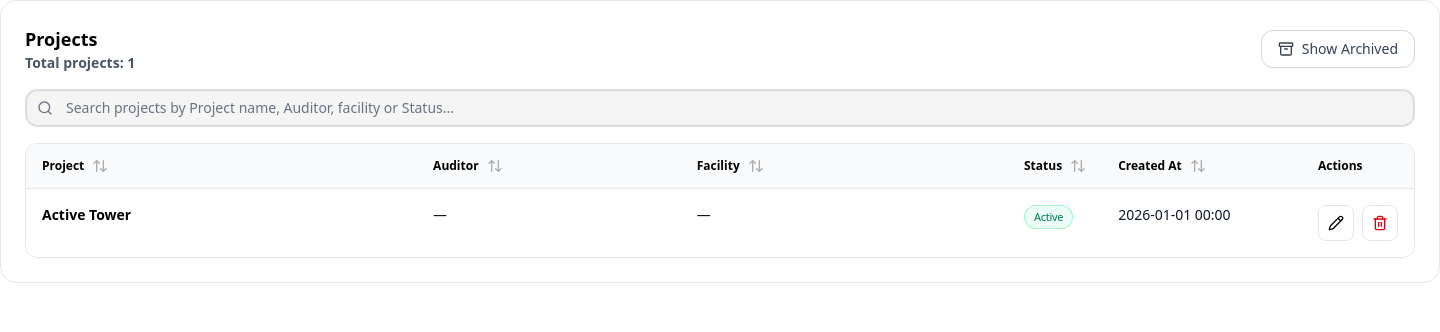
Test case: ProjectsContent — archived view › shows the empty state when nothing is archived
Step 1. Click the button with aria-label "Show archived projects" → (1338, 49), box [1261,30,1415,68]
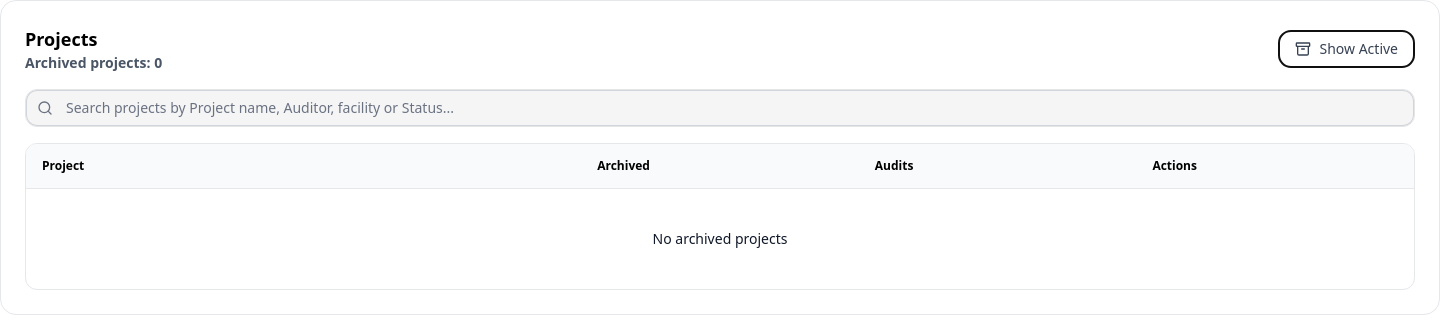
Check: the text "No archived projects" is shown, box [26,188,1414,288]
